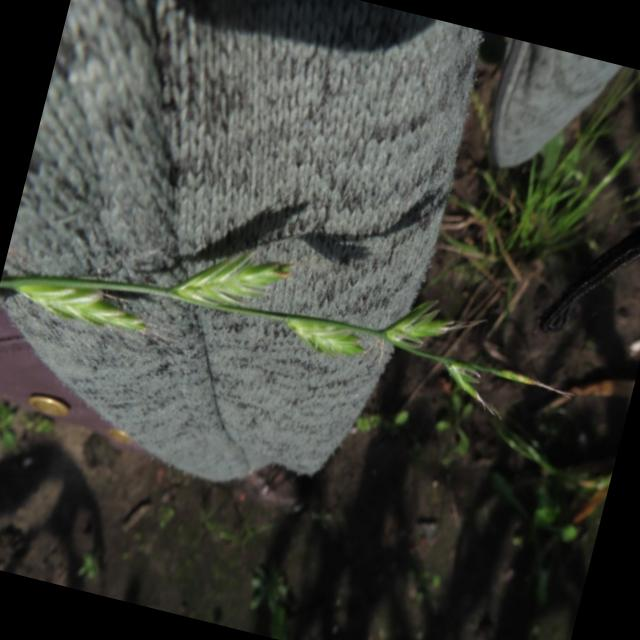Lolium: (0, 184, 591, 450)
